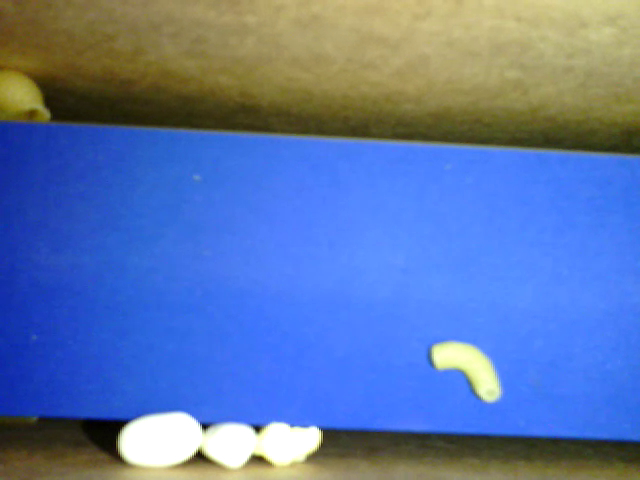elbow: (432, 336, 501, 401)
shell: (2, 68, 53, 124)
